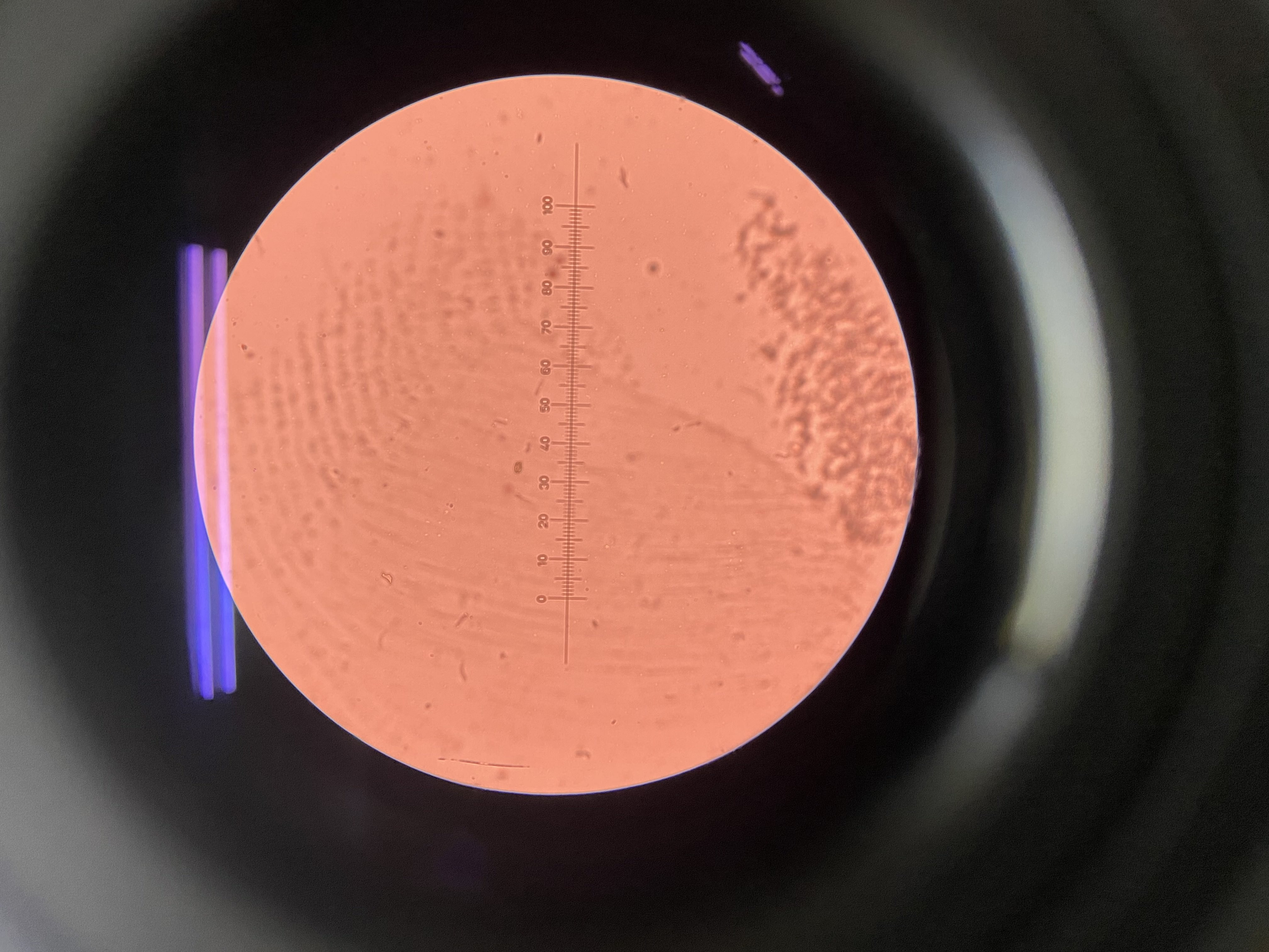microplastic: (715, 186, 928, 526), (382, 570, 398, 591), (510, 461, 522, 472)
